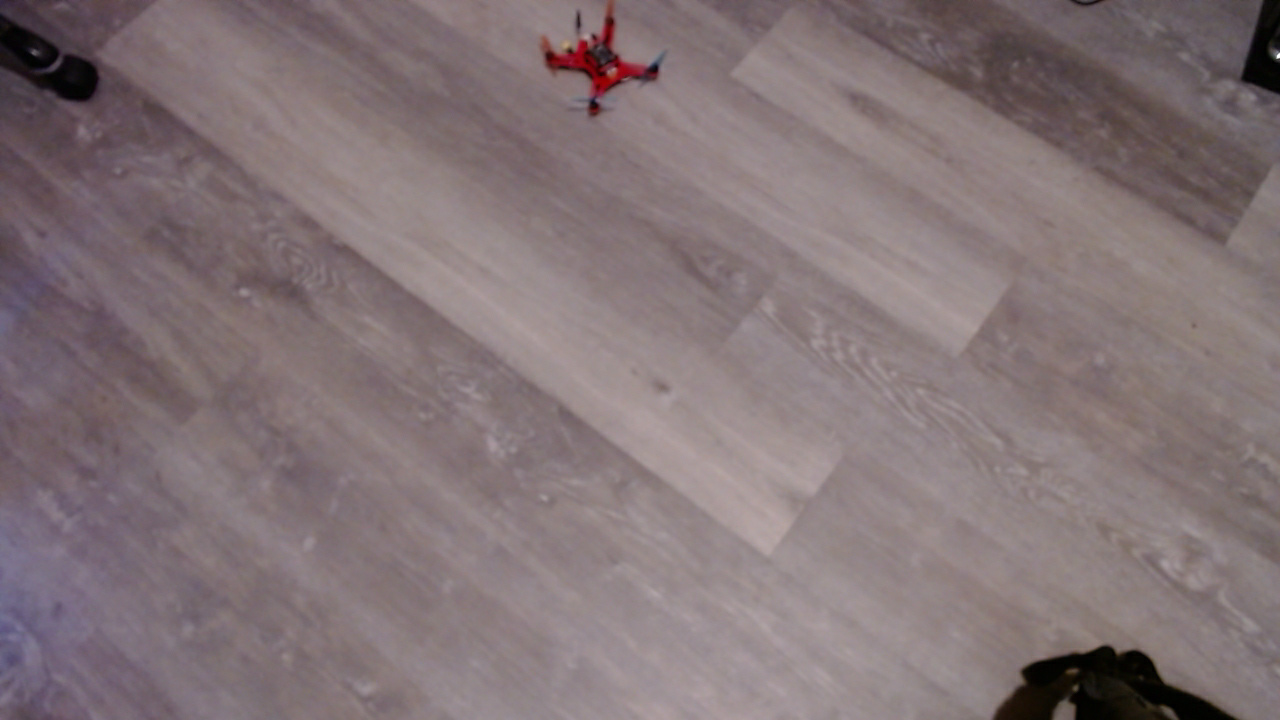crazyflie: (531, 5, 678, 127)
